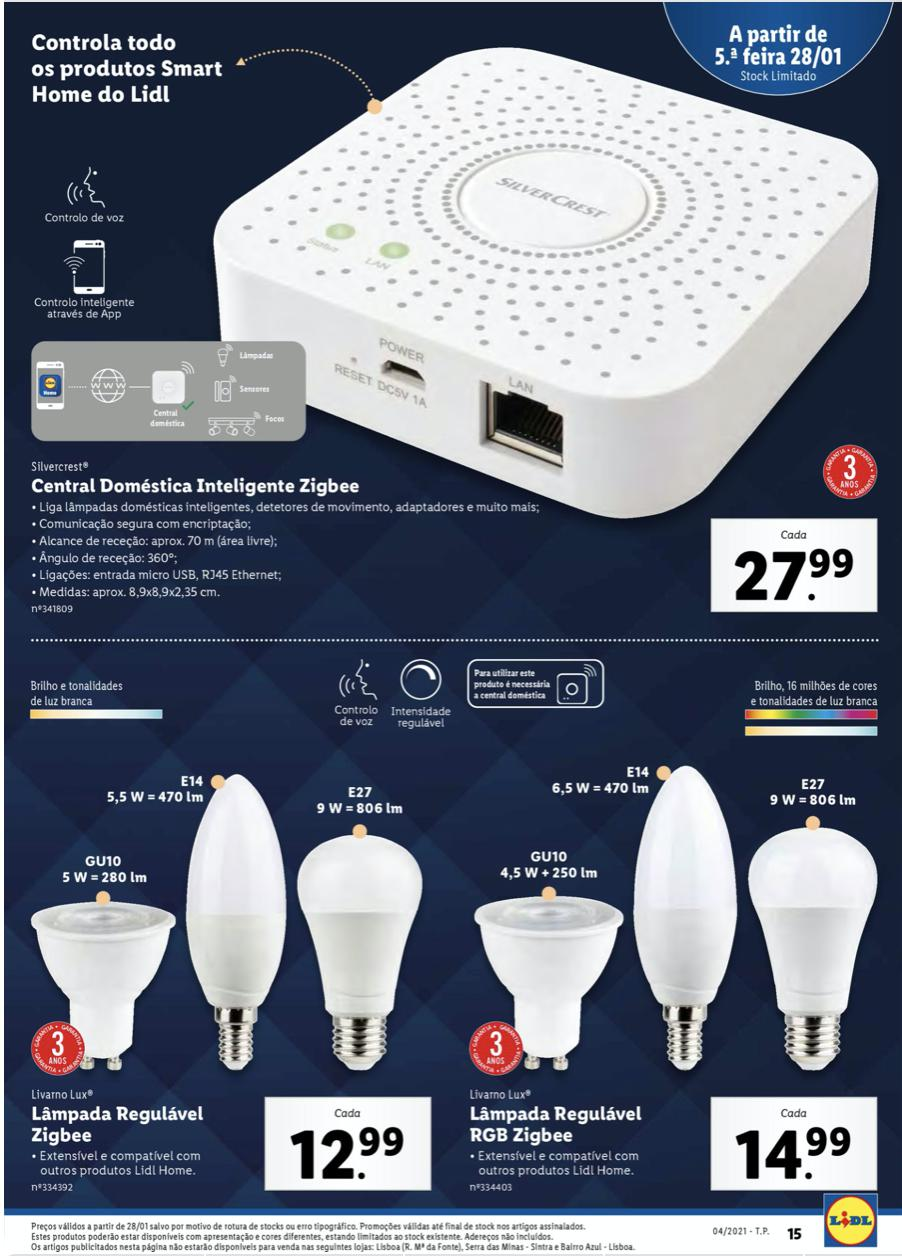name: (30, 474, 371, 502), (466, 1099, 649, 1149), (26, 1102, 211, 1149)
price: (730, 541, 861, 607), (283, 1116, 408, 1183), (729, 1124, 852, 1185)
product: (15, 13, 879, 632), (457, 669, 888, 1202), (22, 758, 446, 1200)
